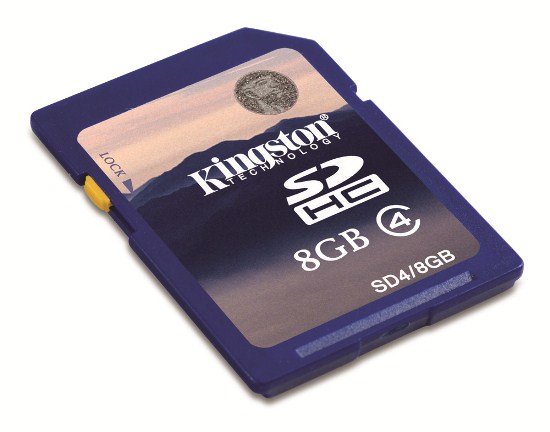Kingston: (182, 110, 353, 202)
